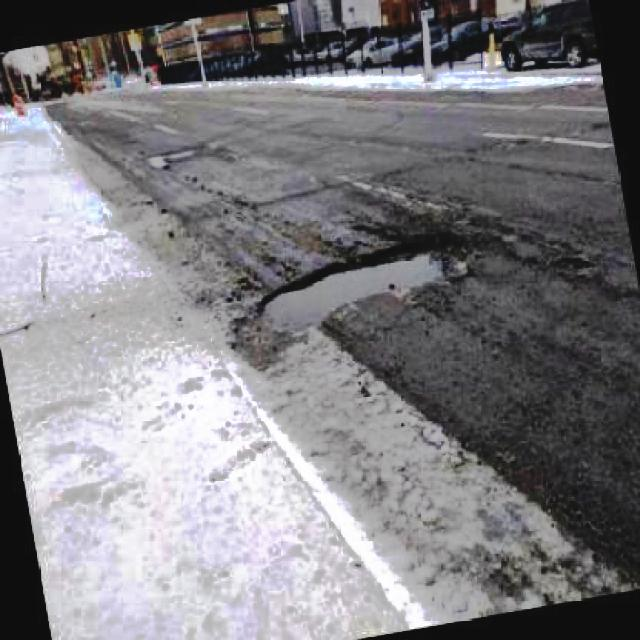pothole: (257, 223, 492, 340)
